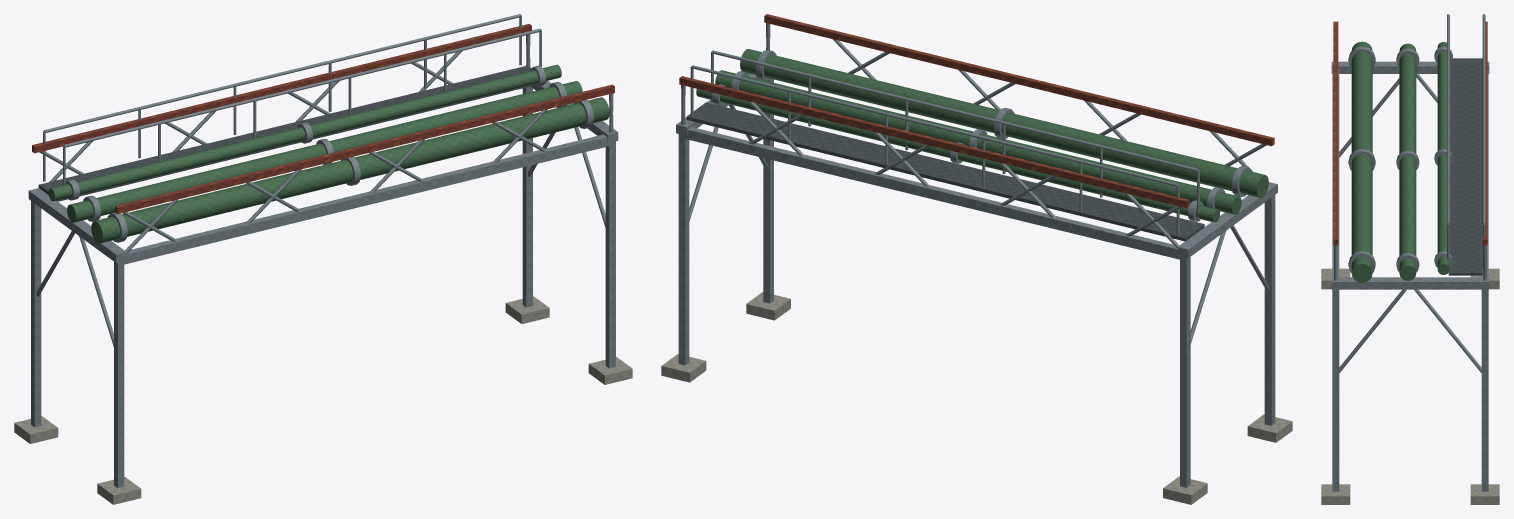
File: PZ_CFW_05_PipeBridge_10m.glb
The picture shows the model from 3 angles, left to right: view 1: azimuth 30°, elevation 25°; view 2: azimuth 150°, elevation 25°; view 3: azimuth 270°, elevation 25°; orthographic projection. The views are drawn at different scales.
Visible parts, largest first — view 1: PIPE_BRIDGE_Pipe_01_Continuous, PIPE_BRIDGE_Pipe_03_Continuous, PIPE_BRIDGE_Pipe_02_Continuous, PIPE_BRIDGE_Longitudinal_Girder_0, PIPE_BRIDGE_UpperTrussChord_0, PIPE_BRIDGE_ServiceCatwalk_Grating, PIPE_BRIDGE_UpperTrussChord_1, PIPE_BRIDGE_Column_0_0, PIPE_BRIDGE_Column_1_0, PIPE_BRIDGE_Column_0_1, PIPE_BRIDGE_CatwalkRailingTop_0, PIPE_BRIDGE_CatwalkRailingTop_1 (+6 smaller); view 2: PIPE_BRIDGE_Pipe_01_Continuous, PIPE_BRIDGE_ServiceCatwalk_Grating, PIPE_BRIDGE_Longitudinal_Girder_1, PIPE_BRIDGE_Pipe_02_Continuous, PIPE_BRIDGE_UpperTrussChord_0, PIPE_BRIDGE_UpperTrussChord_1, PIPE_BRIDGE_Pipe_03_Continuous, PIPE_BRIDGE_Column_1_1, PIPE_BRIDGE_Column_0_0, PIPE_BRIDGE_Column_0_1, PIPE_BRIDGE_CatwalkRailingTop_1, PIPE_BRIDGE_CatwalkRailingTop_0 (+6 smaller); view 3: PIPE_BRIDGE_ServiceCatwalk_Grating, PIPE_BRIDGE_Pipe_01_Continuous, PIPE_BRIDGE_Pipe_02_Continuous, PIPE_BRIDGE_Pipe_03_Continuous, PIPE_BRIDGE_Portal_TransverseBeam_1, PIPE_BRIDGE_Column_1_0, PIPE_BRIDGE_Column_1_1, PIPE_BRIDGE_UpperTrussChord_0, PIPE_BRIDGE_Longitudinal_Girder_0, PIPE_BRIDGE_CatwalkRailingTop_1, PIPE_BRIDGE_Portal_TransverseBeam_0, PIPE_BRIDGE_UpperTrussChord_1 (+12 smaller).
Part boxes in pixels (x1,y1,x2,y2): PIPE_BRIDGE_Pipe_01_Continuous: (91,97,609,243); PIPE_BRIDGE_Pipe_03_Continuous: (48,64,561,201); PIPE_BRIDGE_Pipe_02_Continuous: (67,81,582,222); PIPE_BRIDGE_Longitudinal_Girder_0: (118,134,615,265); PIPE_BRIDGE_UpperTrussChord_0: (115,84,614,214); PIPE_BRIDGE_ServiceCatwalk_Grating: (38,65,546,201); PIPE_BRIDGE_UpperTrussChord_1: (32,23,531,153); PIPE_BRIDGE_Column_0_0: (114,261,124,488); PIPE_BRIDGE_Column_1_0: (605,141,615,368); PIPE_BRIDGE_Column_0_1: (31,201,41,427); PIPE_BRIDGE_CatwalkRailingTop_0: (63,28,541,147); PIPE_BRIDGE_CatwalkRailingTop_1: (43,14,521,132); PIPE_BRIDGE_Pipe_01_Continuous: (740,49,1268,198); PIPE_BRIDGE_ServiceCatwalk_Grating: (686,102,1204,241); PIPE_BRIDGE_Longitudinal_Girder_1: (679,127,1186,260); PIPE_BRIDGE_Pipe_02_Continuous: (715,70,1241,214); PIPE_BRIDGE_UpperTrussChord_0: (764,14,1274,146); PIPE_BRIDGE_UpperTrussChord_1: (679,76,1189,208); PIPE_BRIDGE_Pipe_03_Continuous: (696,89,1219,222); PIPE_BRIDGE_Column_1_1: (678,134,689,365); PIPE_BRIDGE_Column_0_0: (1264,195,1275,425); PIPE_BRIDGE_Column_0_1: (1180,257,1190,487); PIPE_BRIDGE_CatwalkRailingTop_1: (691,65,1178,186); PIPE_BRIDGE_CatwalkRailingTop_0: (711,50,1199,171); PIPE_BRIDGE_ServiceCatwalk_Grating: (1448,58,1482,275); PIPE_BRIDGE_Pipe_01_Continuous: (1351,41,1372,282); PIPE_BRIDGE_Pipe_02_Continuous: (1399,43,1416,280); PIPE_BRIDGE_Pipe_03_Continuous: (1437,42,1449,274); PIPE_BRIDGE_Portal_TransverseBeam_1: (1331,277,1489,289); PIPE_BRIDGE_Column_1_0: (1332,289,1339,491); PIPE_BRIDGE_Column_1_1: (1481,289,1488,491); PIPE_BRIDGE_UpperTrussChord_0: (1333,21,1338,245); PIPE_BRIDGE_Longitudinal_Girder_0: (1332,68,1339,277); PIPE_BRIDGE_CatwalkRailingTop_1: (1482,14,1485,224); PIPE_BRIDGE_Portal_TransverseBeam_0: (1331,61,1489,73); PIPE_BRIDGE_UpperTrussChord_1: (1482,21,1487,245).
Size of the model in its own units: 10.25 by 5.72 by 3.39.
5 materials, 5 textured.
